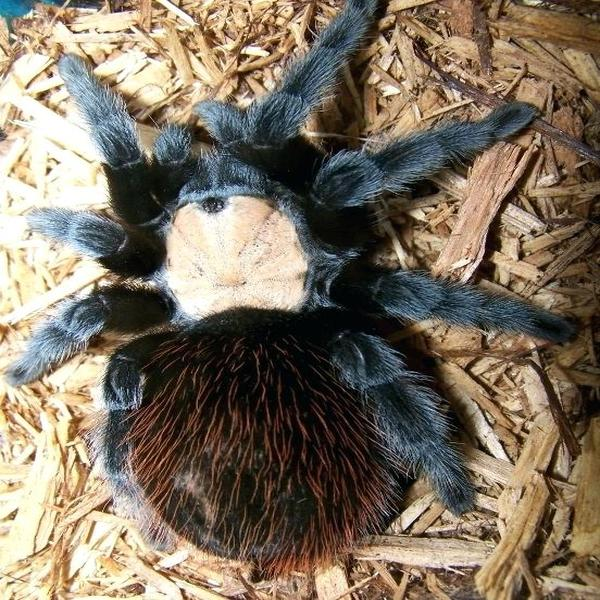Tarantula Spider: (50, 40, 536, 567)
